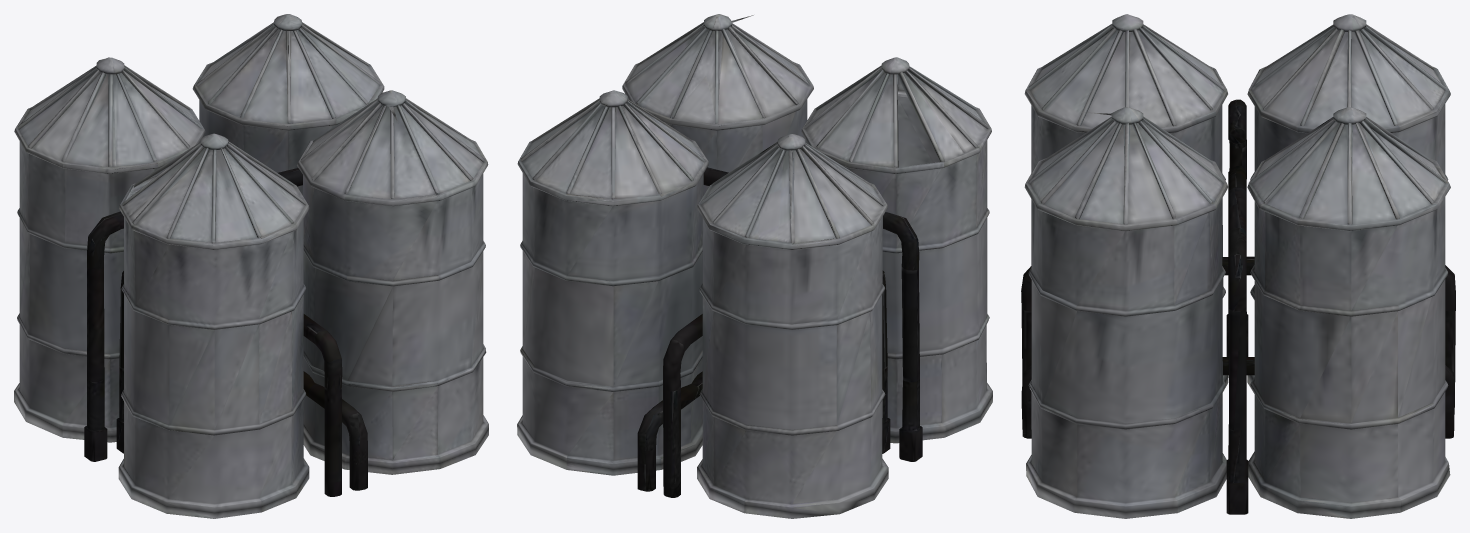
File: 21-industrial-silos.glb
The picture shows the model from 3 angles, left to right: view 1: azimuth 30°, elevation 25°; view 2: azimuth 150°, elevation 25°; view 3: azimuth 270°, elevation 25°; orthographic projection. The views are drawn at different scales.
Visible parts, largest first — view 1: geometry_0; view 2: geometry_0; view 3: geometry_0.
Boxes of the visible parts, x1,y1,x2,y2 form: geometry_0: (14,14,488,518); geometry_0: (517,14,992,518); geometry_0: (1021,14,1455,518).
Bounding box in the file's own units: 0.9351 × 0.8935 × 0.9541.
Materials: 1 (1 with a texture image).
